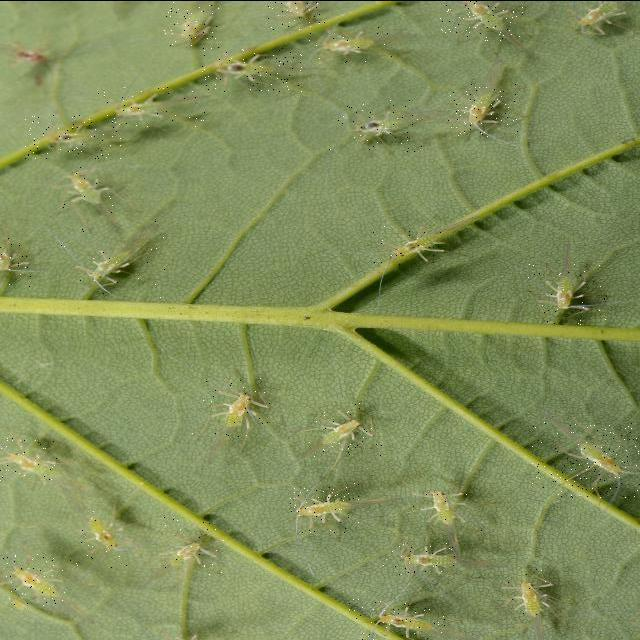aphid: (61, 215, 167, 300), (532, 421, 640, 497), (523, 261, 607, 326), (326, 98, 423, 152), (192, 377, 274, 439), (200, 47, 302, 91), (97, 86, 208, 126), (25, 114, 121, 158), (158, 516, 228, 574), (308, 402, 382, 456), (350, 598, 446, 639), (70, 510, 137, 568), (448, 84, 518, 138), (412, 482, 486, 532), (495, 566, 556, 626), (288, 482, 361, 532), (309, 23, 396, 64), (0, 552, 65, 606), (440, 0, 525, 40), (371, 226, 449, 266), (563, 0, 635, 43), (55, 164, 119, 212), (0, 437, 62, 481), (164, 0, 219, 47), (383, 542, 456, 574), (268, 0, 328, 30), (0, 236, 34, 286)
